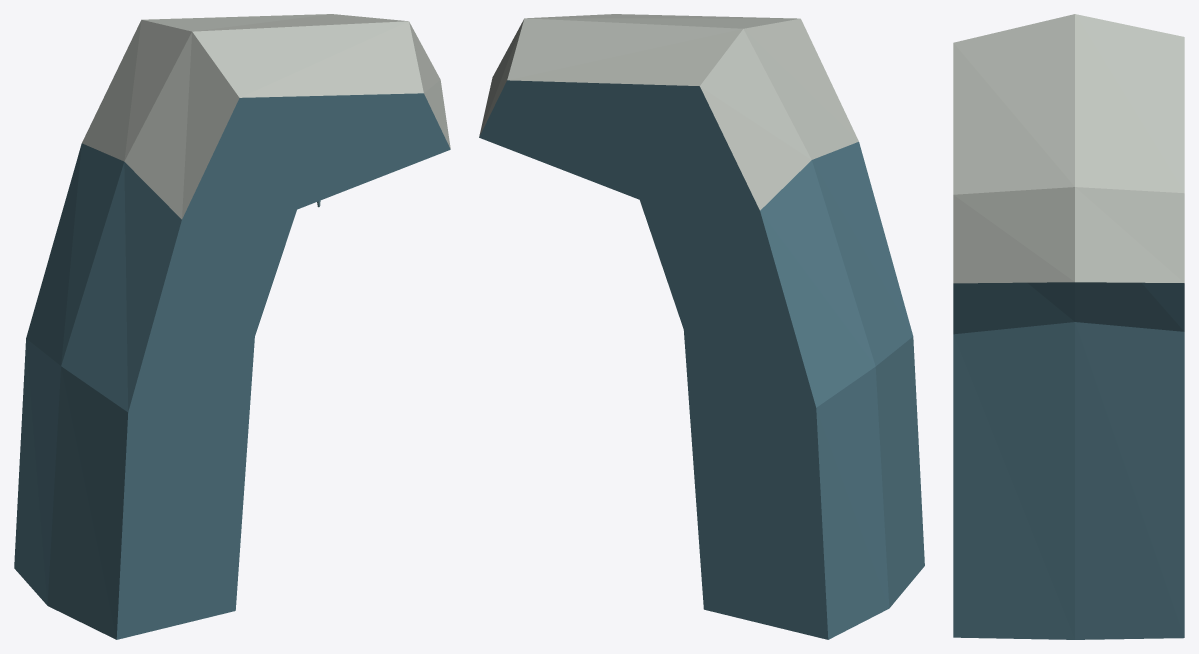
Rendered from Environment_Landmark_IceBeak_001_LOD1.glb.
3 views of the same model, side by side, from view 1: azimuth 30°, elevation 25°; view 2: azimuth 150°, elevation 25°; view 3: azimuth 270°, elevation 25° (orthographic). The views are drawn at different scales.
Visible parts, largest first — view 1: Environment_Landmark_IceBeak_001_LOD1; view 2: Environment_Landmark_IceBeak_001_LOD1; view 3: Environment_Landmark_IceBeak_001_LOD1.
Part boxes in pixels (x1=…): Environment_Landmark_IceBeak_001_LOD1: x1=14, y1=14, x2=450, y2=639; Environment_Landmark_IceBeak_001_LOD1: x1=479, y1=14, x2=924, y2=639; Environment_Landmark_IceBeak_001_LOD1: x1=953, y1=14, x2=1184, y2=639.
Bounding box in the file's own units: 8.7 × 11.4 × 3.8.
